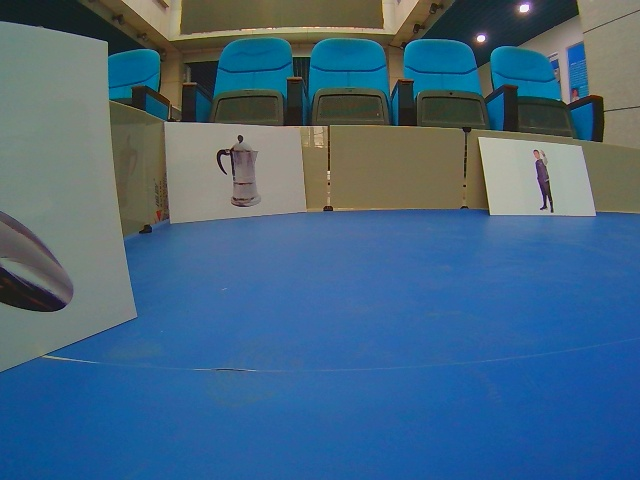dish: (165, 122, 308, 224)
person: (478, 137, 597, 217)
